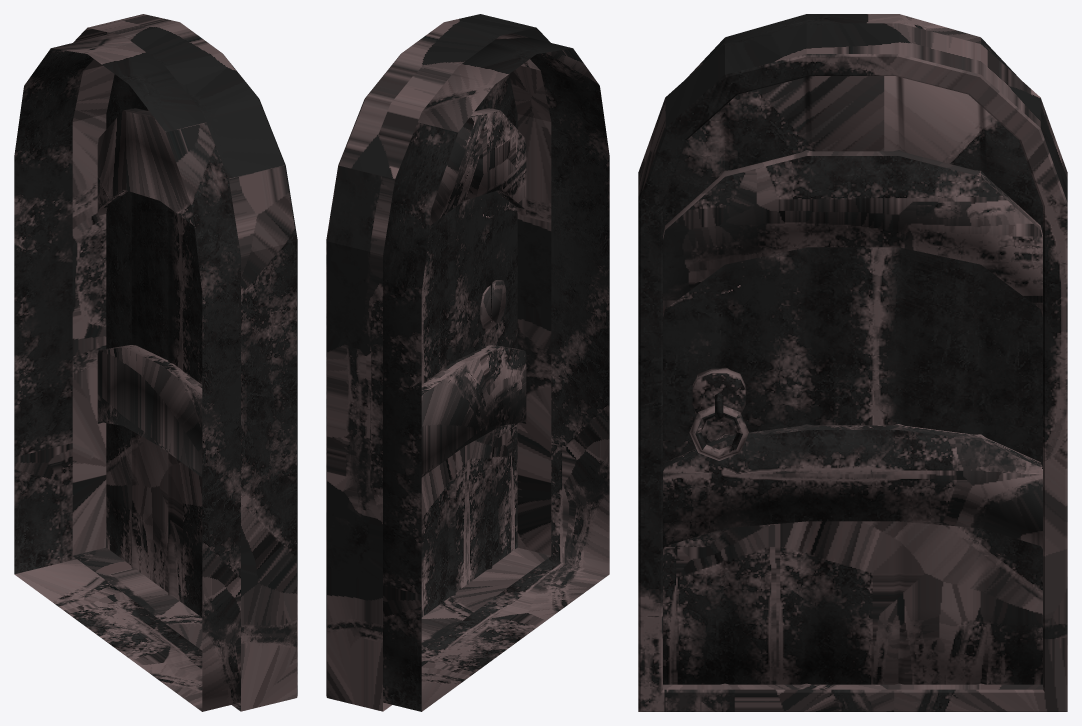
Rendered from door_low.fbx.
3 renders of one model, left to right at view 1: azimuth 30°, elevation 25°; view 2: azimuth 150°, elevation 25°; view 3: azimuth 270°, elevation 25°, orthographic. The views are drawn at different scales.
Parts seen in each view (by area): view 1: Wood, Metal.001, Metal; view 2: Wood, Metal.001, Metal, Knob; view 3: Wood, Metal, Metal.001, Knob.
Boxes of the visible parts, x1,y1,x2,y2 form: Wood: (14, 33, 240, 711); Metal.001: (72, 14, 297, 711); Metal: (97, 108, 202, 477); Wood: (383, 33, 609, 711); Metal.001: (326, 14, 551, 711); Metal: (421, 108, 526, 477); Knob: (480, 280, 505, 328); Wood: (663, 14, 1042, 684); Metal: (663, 150, 1042, 548); Metal.001: (638, 23, 1067, 711); Knob: (689, 367, 748, 460).
Bounding box in the file's own units: 54.75 × 294 × 174.
